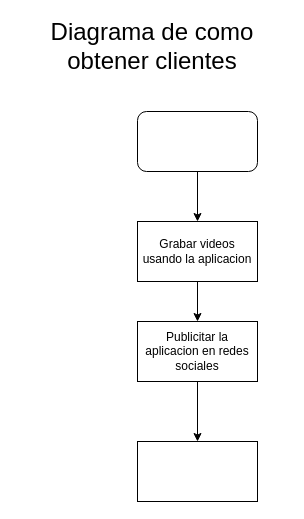
The diagram is 304 pixels wide and 519 high, and some of its shapes have lost their labels. Here are the shapes that lost their labels. From the top down, the box of each, then its label:
(136, 110, 258, 172): Inicio
(136, 440, 258, 502): Fin
